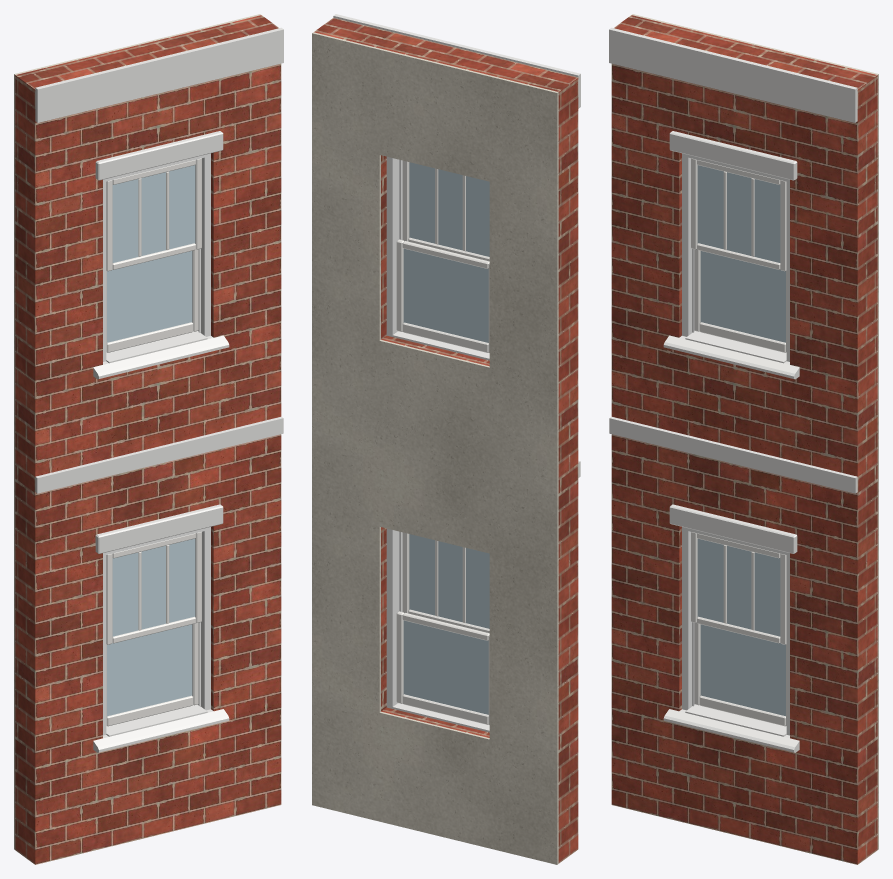
File: wall_hall_window.glb
3 renders of one model, left to right at view 1: azimuth 30°, elevation 25°; view 2: azimuth 150°, elevation 25°; view 3: azimuth 330°, elevation 25°, orthographic.
Parts seen in each view (by area): view 1: wall_hall_window_brick, wall_hall_window_trim, wall_hall_window_glass, wall_hall_window_sash, wall_hall_window_frame, wall_hall_window_plaster; view 2: wall_hall_window_plaster, wall_hall_window_brick, wall_hall_window_glass, wall_hall_window_sash, wall_hall_window_frame, wall_hall_window_trim; view 3: wall_hall_window_brick, wall_hall_window_trim, wall_hall_window_glass, wall_hall_window_sash, wall_hall_window_frame, wall_hall_window_plaster.
Boxes of the visible parts, bbox=[...] form: wall_hall_window_brick: bbox=[15, 15, 281, 864]; wall_hall_window_trim: bbox=[35, 27, 283, 752]; wall_hall_window_glass: bbox=[107, 165, 195, 716]; wall_hall_window_sash: bbox=[106, 158, 201, 726]; wall_hall_window_frame: bbox=[103, 153, 210, 735]; wall_hall_window_plaster: bbox=[14, 14, 260, 849]; wall_hall_window_plaster: bbox=[312, 32, 558, 864]; wall_hall_window_brick: bbox=[314, 18, 578, 863]; wall_hall_window_glass: bbox=[403, 162, 489, 714]; wall_hall_window_sash: bbox=[396, 160, 489, 724]; wall_hall_window_frame: bbox=[386, 156, 402, 708]; wall_hall_window_trim: bbox=[333, 14, 580, 732]; wall_hall_window_brick: bbox=[611, 15, 877, 864]; wall_hall_window_trim: bbox=[609, 27, 857, 752]; wall_hall_window_glass: bbox=[697, 165, 785, 716]; wall_hall_window_sash: bbox=[691, 158, 786, 726]; wall_hall_window_frame: bbox=[682, 153, 789, 735]; wall_hall_window_plaster: bbox=[632, 14, 878, 849].
Size of the model in its own units: 2 by 6.03 by 0.38.
6 materials, 2 textured.
